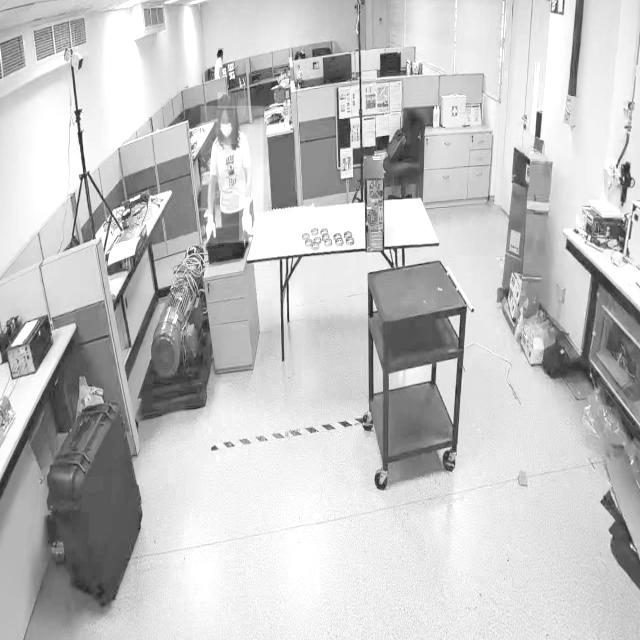face_mask: (217, 110, 236, 144)
hand_glove: (238, 197, 254, 242), (204, 209, 218, 248)
head_nohelmet: (217, 92, 237, 110), (218, 48, 224, 54)
person: (200, 105, 264, 244)
